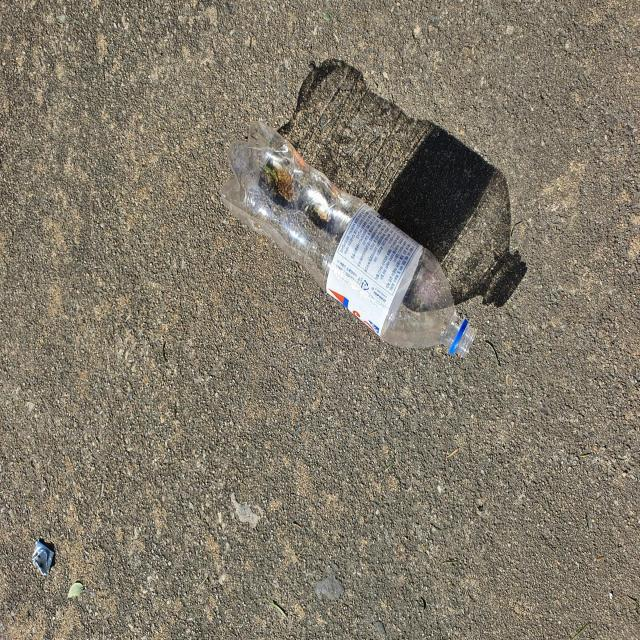plastic: (221, 122, 475, 356)
